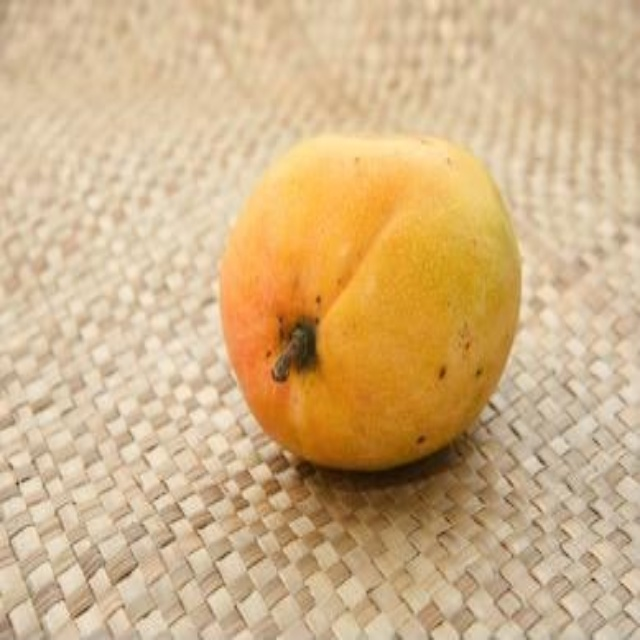mango: (217, 135, 523, 476)
